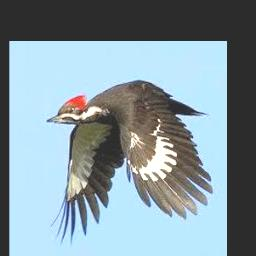Woodpecker: (47, 80, 213, 247)
